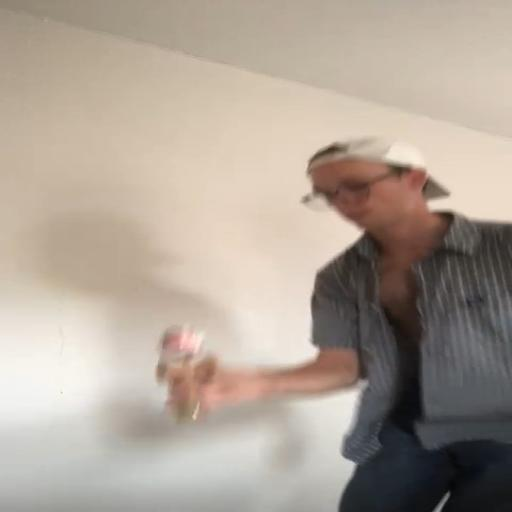kendama_ball: (160, 323, 205, 356)
